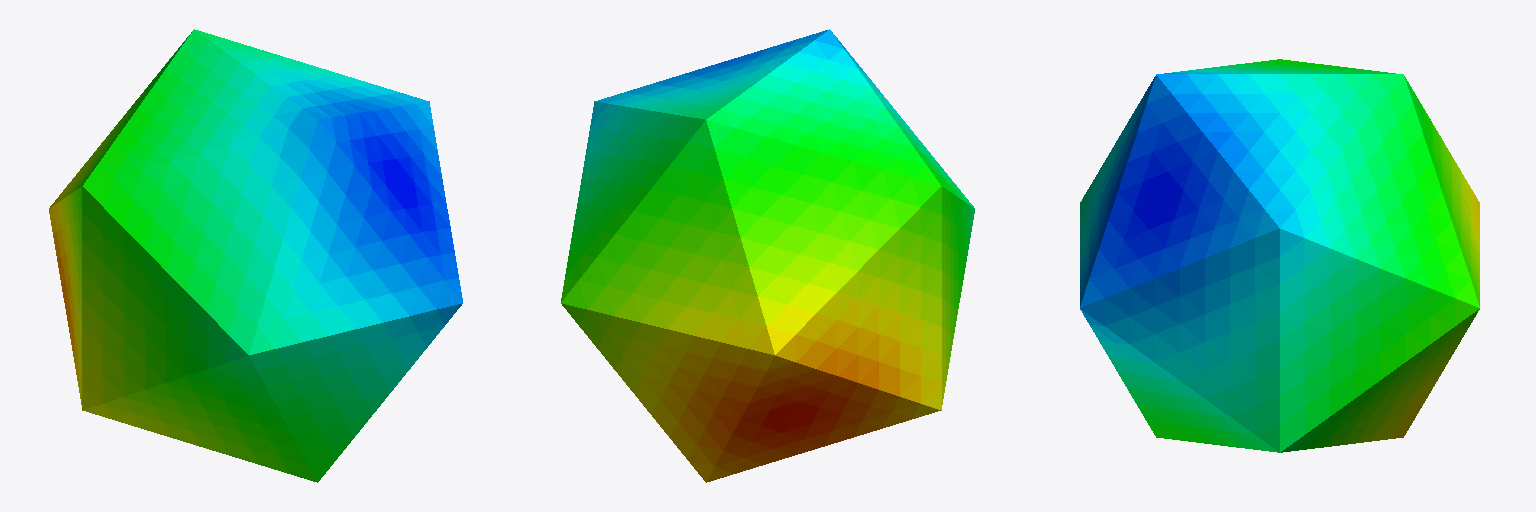
The model's file is rando.obj.
3 renders of one model, left to right at view 1: azimuth 30°, elevation 25°; view 2: azimuth 150°, elevation 25°; view 3: azimuth 270°, elevation 25°, orthographic.
Size of the model in its own units: 3.24 by 3.24 by 3.24.